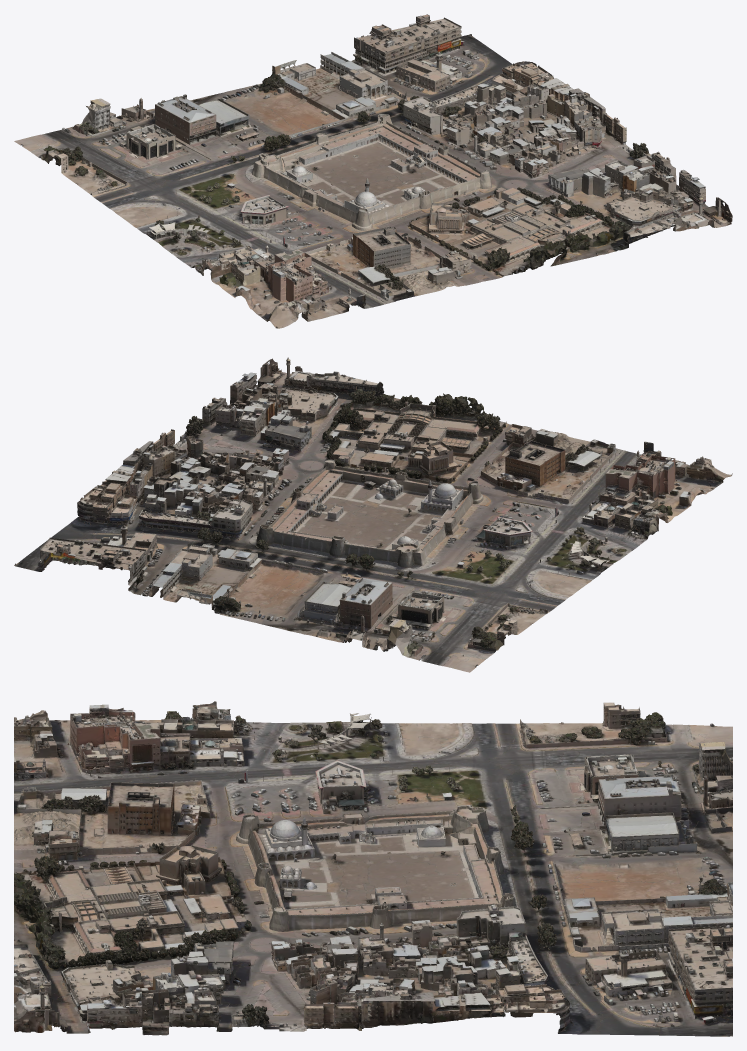
The picture shows the model from 3 angles, top to bottom: view 1: azimuth 30°, elevation 25°; view 2: azimuth 150°, elevation 25°; view 3: azimuth 270°, elevation 25°; orthographic projection. The views are drawn at different scales.
Parts seen in each view (by area): view 1: SAU_002_M2_QasrIbrahim; view 2: SAU_002_M2_QasrIbrahim; view 3: SAU_002_M2_QasrIbrahim.
Part boxes in pixels (bbox=[...]): SAU_002_M2_QasrIbrahim: bbox=[14, 14, 732, 328]; SAU_002_M2_QasrIbrahim: bbox=[14, 357, 732, 672]; SAU_002_M2_QasrIbrahim: bbox=[14, 701, 732, 1036].
Bounding box in the file's own units: 383 × 28.51 × 383.
1 material, 1 textured.
